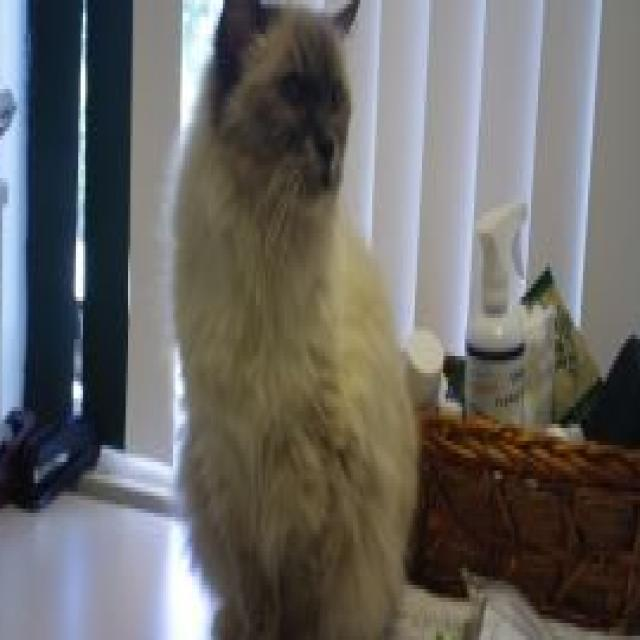Birman: (166, 0, 424, 640)
